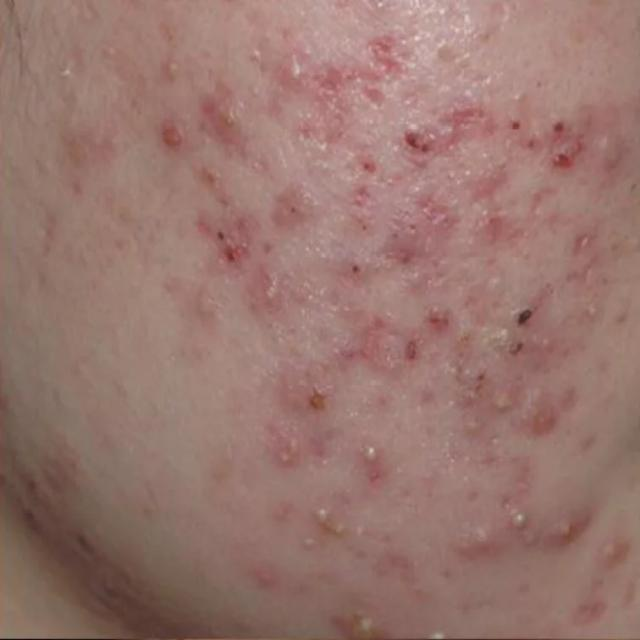Acne: (375, 452, 538, 640), (390, 88, 630, 206), (291, 40, 457, 206), (73, 112, 188, 316), (193, 182, 302, 354), (398, 305, 506, 441), (302, 302, 403, 439), (300, 583, 530, 640), (262, 430, 368, 552), (474, 466, 598, 570), (514, 373, 638, 475), (457, 219, 640, 281), (181, 368, 337, 433), (323, 218, 442, 302), (18, 148, 74, 304), (199, 81, 260, 170), (516, 279, 586, 347), (600, 515, 638, 640), (236, 557, 304, 607), (134, 104, 191, 160), (156, 47, 194, 106)
